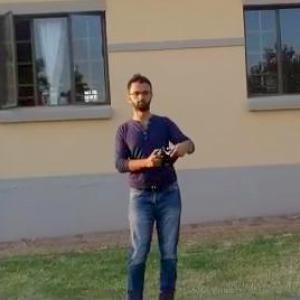follow: (112, 72, 207, 299)
